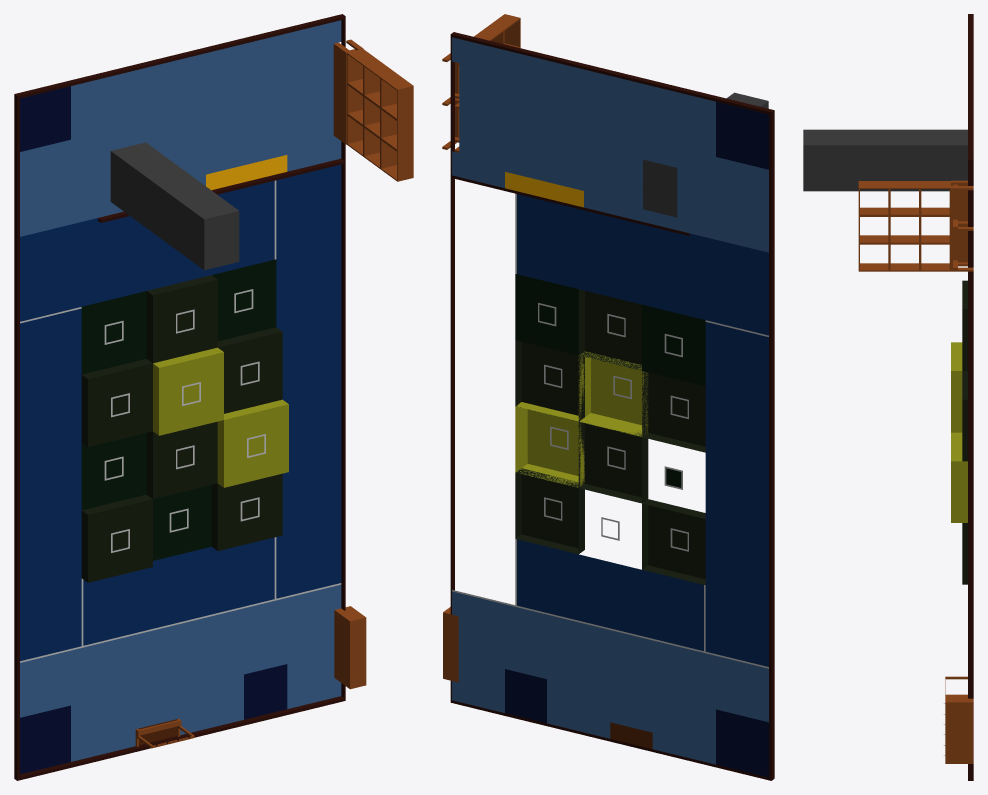
Rendered from field_Tamokuteki.obj.
3 views of the same model, side by side, from view 1: azimuth 30°, elevation 25°; view 2: azimuth 150°, elevation 25°; view 3: azimuth 270°, elevation 25° (orthographic). The views are drawn at different scales.
Parts seen in each view (by area): view 1: cArenaBlue, aDojoB, bPathwayB1, bPathwayB3, bPathwayB4, bPathwayB2, WallB, cHashira, bStageB11, bStageB01, bStageB07, bStageB06 (+19 smaller); view 2: cArenaBlue, aDojoB, bPathwayB3, bPathwayB4, bPathwayB2, WallB, bStageB03, bStageB06, bStageB05, bStageB01, bStageB08, bStageB09 (+12 smaller); view 3: cHashira, WallB, cTicTacToeRack_RightB, aHeadRack, bStageB06, bStageB08, cTicTacToeRack_LeftB, cTicTacToeRackBase.005, bStageB11, bStageB09, cTicTacToeRack_UpB, cTicTacToeRack_DownB (+1 smaller).
Boxes of the visible parts, bbox=[...] form: cArenaBlue: bbox=[20, 20, 341, 236]; aDojoB: bbox=[20, 584, 341, 761]; bPathwayB1: bbox=[276, 164, 341, 598]; bPathwayB3: bbox=[20, 308, 81, 661]; bPathwayB4: bbox=[20, 181, 274, 321]; bPathwayB2: bbox=[83, 537, 274, 645]; WallB: bbox=[14, 14, 345, 780]; cHashira: bbox=[110, 142, 239, 270]; bStageB11: bbox=[146, 275, 217, 363]; bStageB01: bbox=[81, 494, 152, 582]; bStageB07: bbox=[81, 359, 152, 446]; bStageB06: bbox=[217, 399, 288, 487]; cArenaBlue: bbox=[452, 37, 768, 252]; aDojoB: bbox=[452, 591, 768, 764]; bPathwayB3: bbox=[705, 322, 768, 666]; bPathwayB4: bbox=[517, 194, 768, 335]; bPathwayB2: bbox=[517, 539, 703, 650]; WallB: bbox=[450, 32, 774, 780]; bStageB03: bbox=[515, 468, 584, 554]; bStageB06: bbox=[515, 402, 584, 487]; bStageB05: bbox=[578, 421, 648, 503]; bStageB01: bbox=[642, 499, 705, 585]; bStageB08: bbox=[578, 351, 648, 436]; bStageB09: bbox=[515, 340, 584, 421]; cHashira: bbox=[803, 129, 967, 191]; WallB: bbox=[968, 14, 973, 780]; cTicTacToeRack_RightB: bbox=[858, 207, 949, 271]; aHeadRack: bbox=[945, 695, 973, 763]; bStageB06: bbox=[951, 432, 967, 522]; bStageB08: bbox=[951, 342, 962, 432]; cTicTacToeRack_LeftB: bbox=[860, 181, 950, 244]; cTicTacToeRackBase.005: bbox=[953, 184, 967, 262]; bStageB11: bbox=[962, 280, 967, 370]; bStageB09: bbox=[962, 371, 967, 461]; cTicTacToeRack_UpB: bbox=[858, 181, 921, 270]; cTicTacToeRack_DownB: bbox=[888, 189, 950, 271].
Bounding box in the file's own units: 6.23 × 12.1 × 3.
